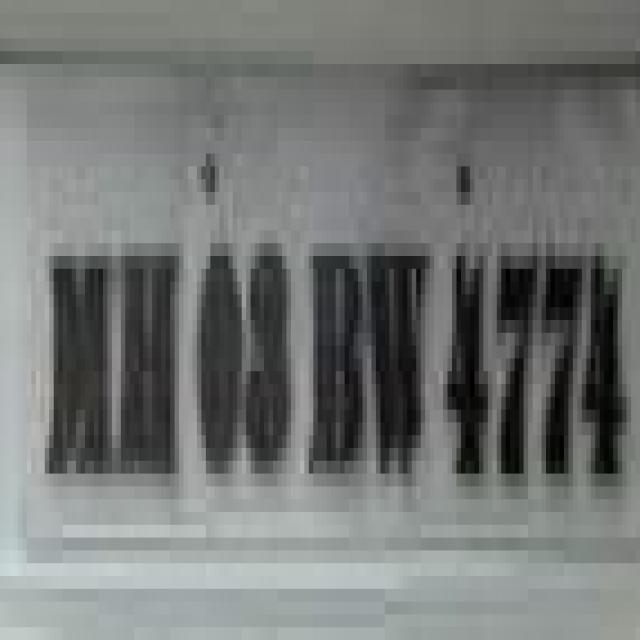0: (193, 233, 247, 492)
3: (241, 222, 301, 503)
4: (580, 237, 640, 516), (438, 223, 496, 508)
7: (490, 231, 541, 490), (538, 231, 587, 474)
B: (308, 238, 372, 506)
H: (110, 234, 180, 493)
M: (43, 238, 115, 494)
W: (364, 218, 430, 485)
